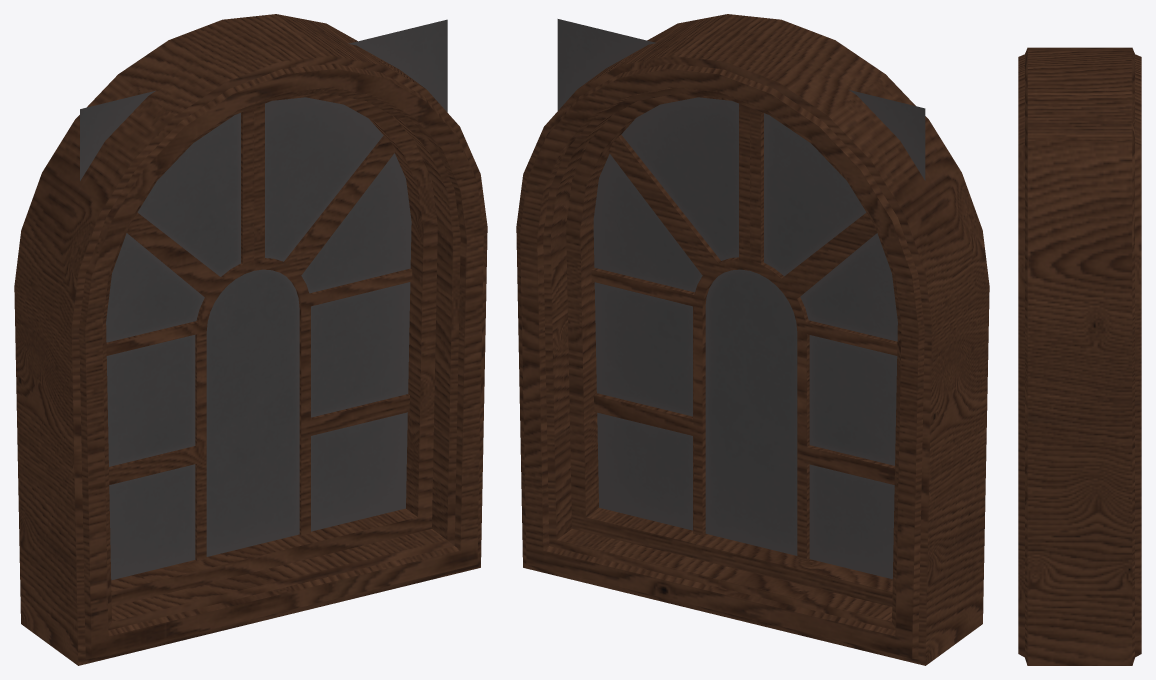
File: mansion_window.glb
The picture shows the model from 3 angles, left to right: view 1: azimuth 30°, elevation 25°; view 2: azimuth 150°, elevation 25°; view 3: azimuth 270°, elevation 25°; orthographic projection. The views are drawn at different scales.
Visible parts, largest first — view 1: SM_Window; view 2: SM_Window; view 3: SM_Window.
Boxes of the visible parts, left/top/right/bottom form: SM_Window: left=14, top=14, right=487, bottom=665; SM_Window: left=516, top=14, right=989, bottom=665; SM_Window: left=1018, top=47, right=1141, bottom=665.
Bounding box in the file's own units: 2.17 × 2.76 × 0.6066.
Materials: 1 (1 with a texture image).
